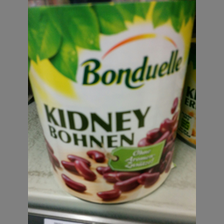beans: (30, 3, 221, 222)
